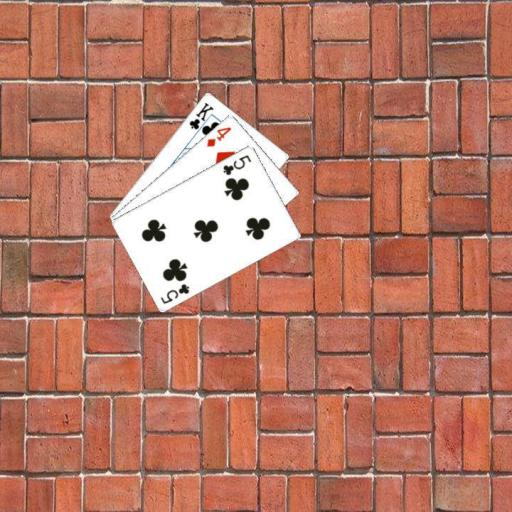card-corner: (186, 99, 216, 136), (157, 280, 191, 305), (220, 152, 252, 176), (204, 123, 232, 148)
